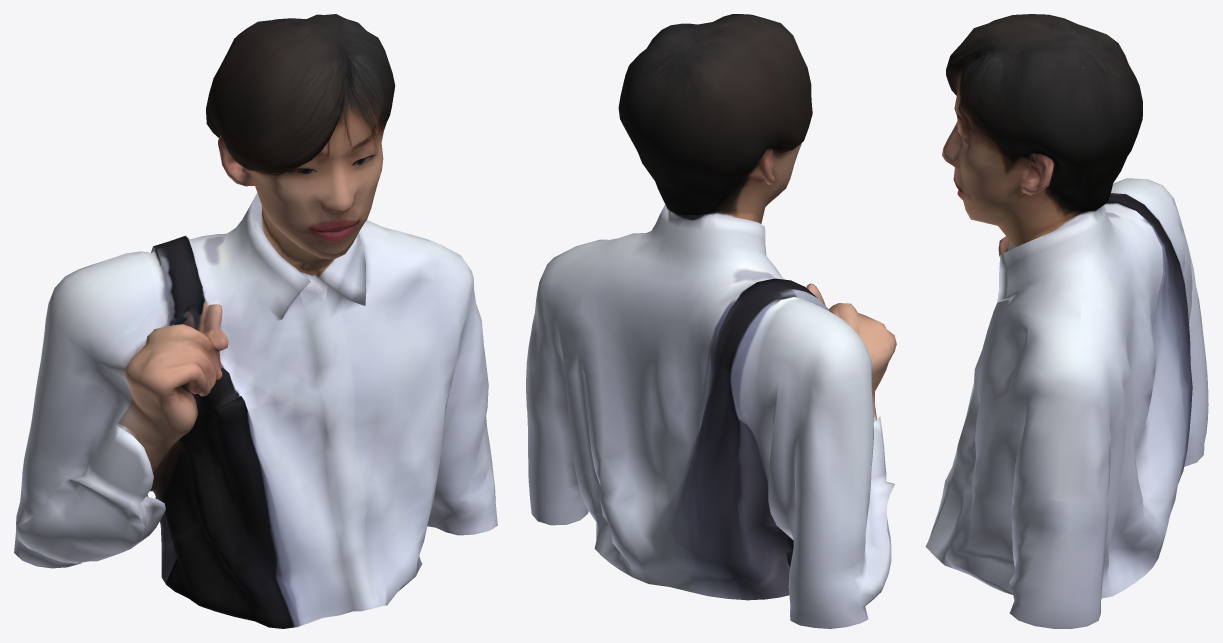
Rendered from human_character_3d_model.obj.
3 renders of one model, left to right at view 1: azimuth 30°, elevation 25°; view 2: azimuth 150°, elevation 25°; view 3: azimuth 270°, elevation 25°, orthographic. The views are drawn at different scales.
Visible parts, largest first — view 1: tripo_node_feadc894-5864-458c-b24a-40e9a8206b33; view 2: tripo_node_feadc894-5864-458c-b24a-40e9a8206b33; view 3: tripo_node_feadc894-5864-458c-b24a-40e9a8206b33.
Part boxes in pixels (box(x1,y1,x2,y2)): tripo_node_feadc894-5864-458c-b24a-40e9a8206b33: box(14, 14, 497, 628); tripo_node_feadc894-5864-458c-b24a-40e9a8206b33: box(526, 14, 896, 628); tripo_node_feadc894-5864-458c-b24a-40e9a8206b33: box(925, 14, 1208, 628).
Bounding box in the file's own units: 0.7954 × 0.9995 × 0.4878.
1 material, 1 textured.
